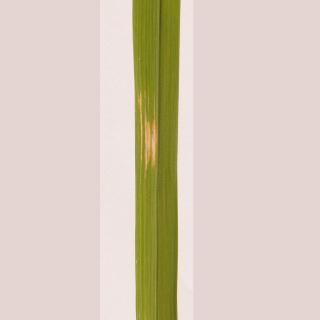Hawar-Daun: (129, 79, 170, 196)
